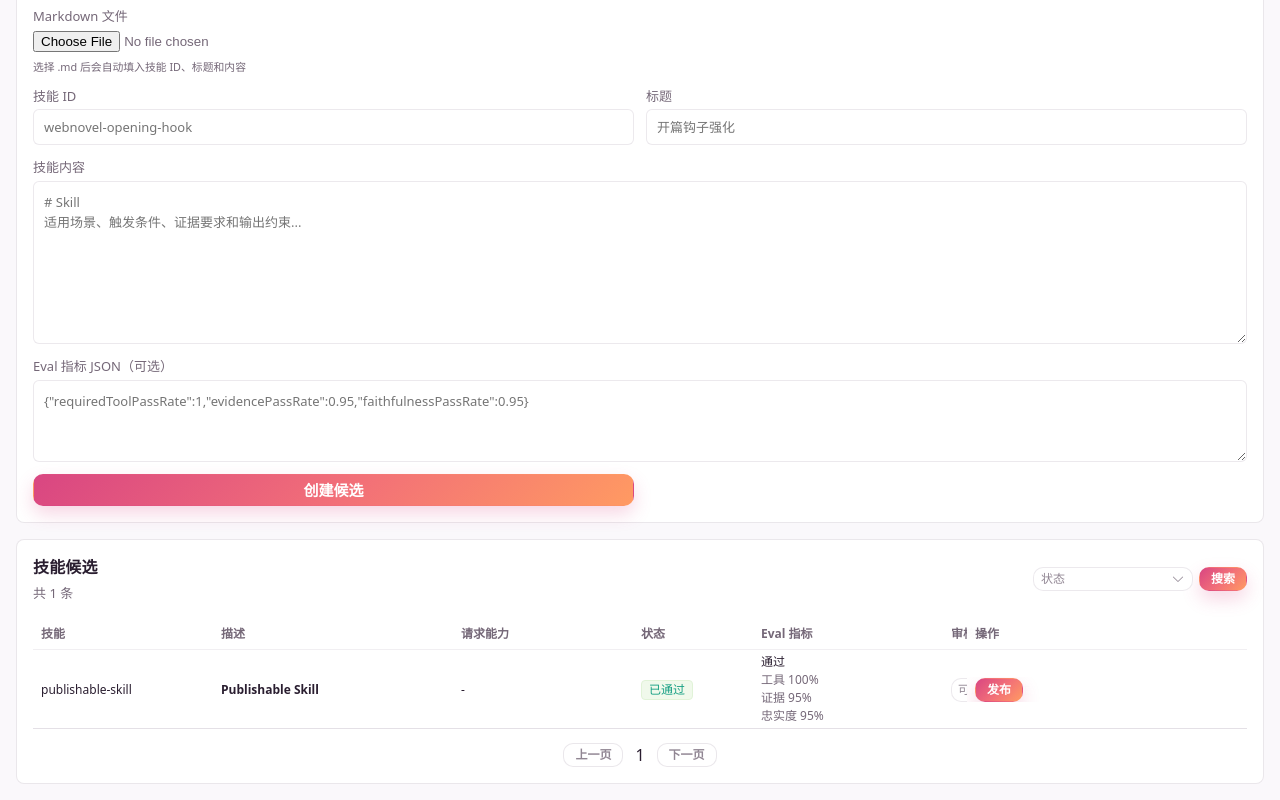
Test: AdminSkillGovernanceView › publishes an approved skill candidate from the governance table
(page scrolled)
Click the button with test id "publish-skill" at point(999, 690), box [975, 678, 1023, 702]
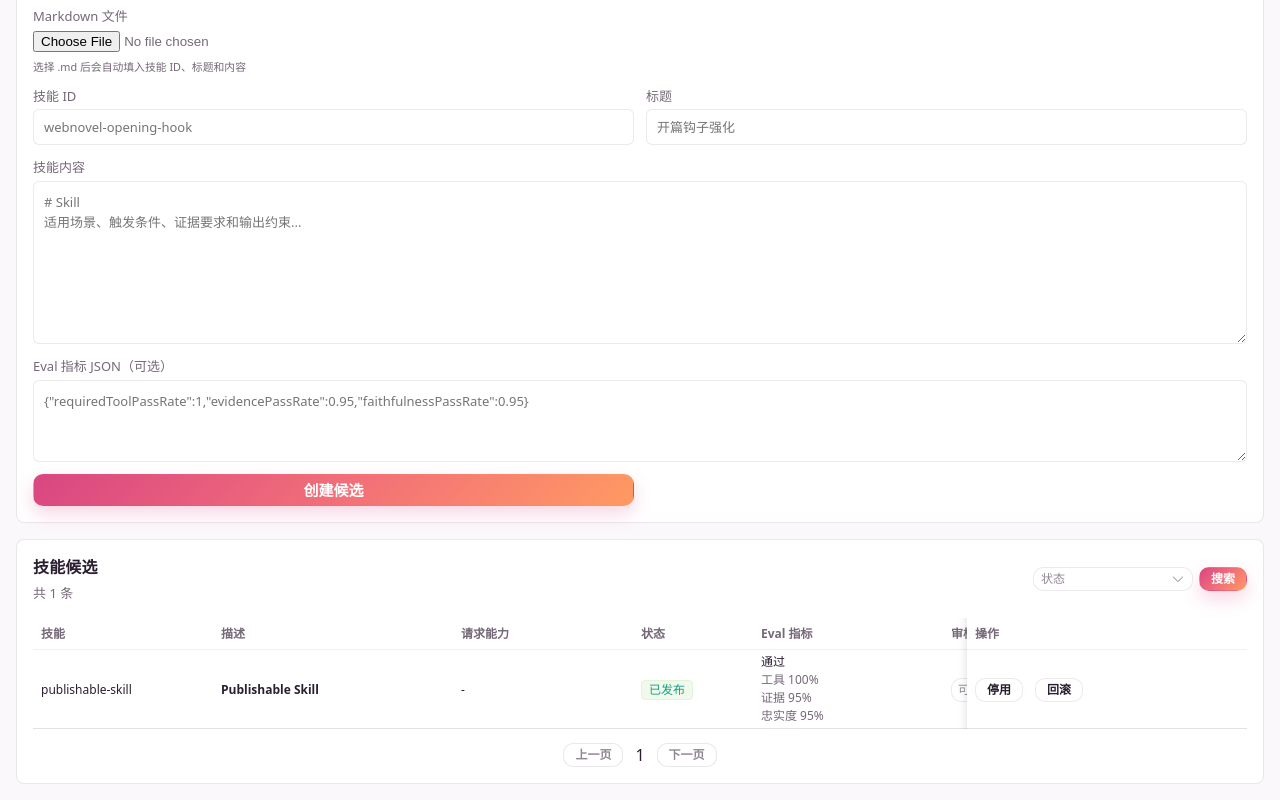
Expected: the text "已发布" is shown, [649, 684, 685, 696]
